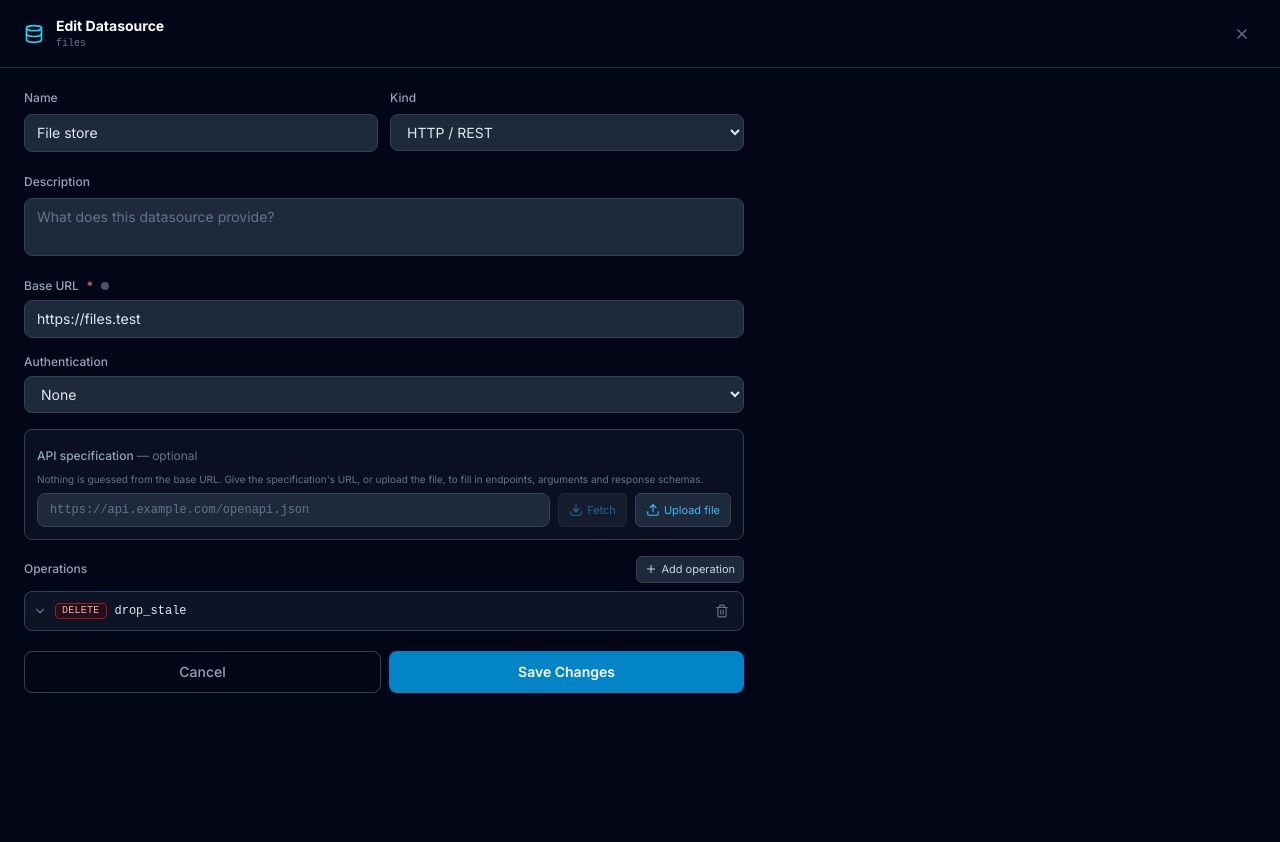
Test case: Try run on a destructive operation › spells the row count into the confirm button
Click the text "drop_stale" at (150,610), box [114, 602, 186, 618]
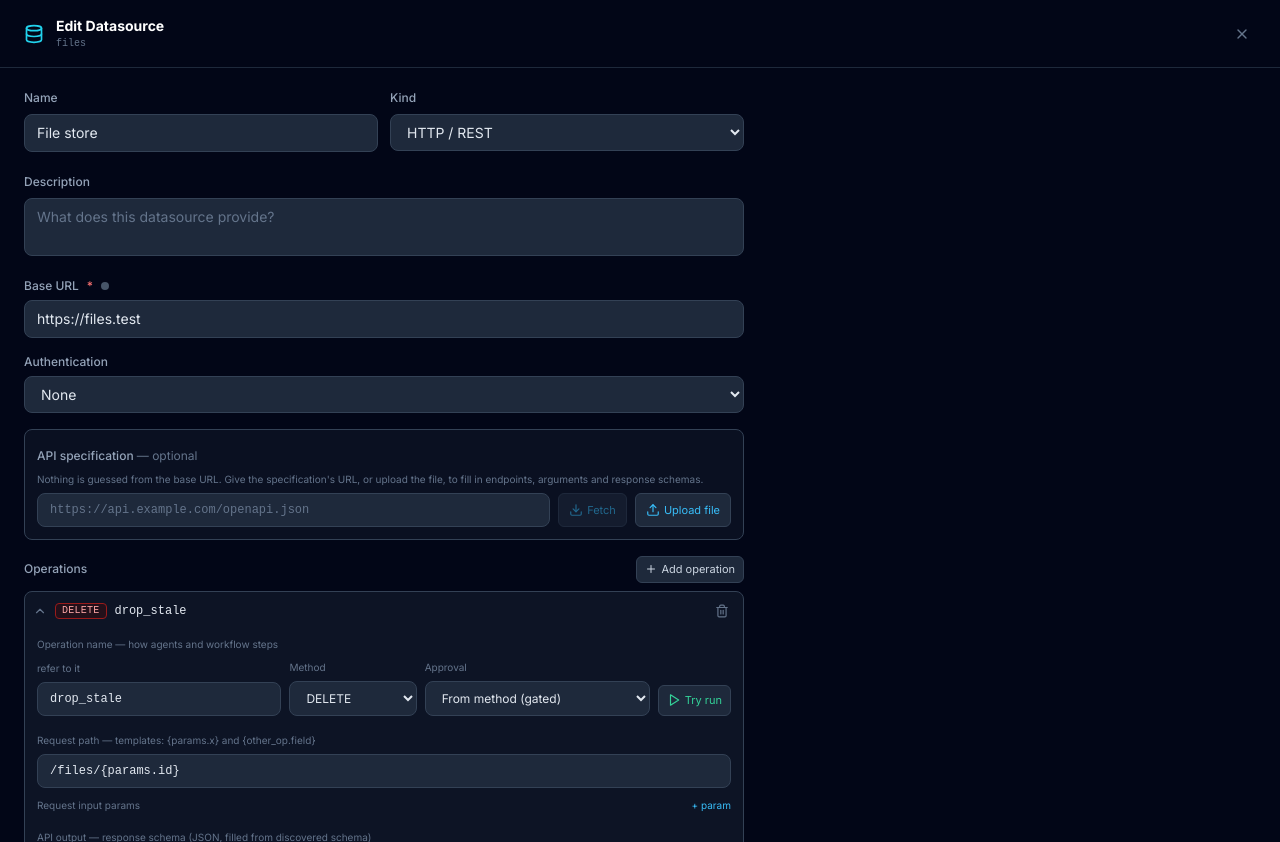
Click the button "Try run" at (694,700), box [658, 685, 731, 716]
(page scrolled)
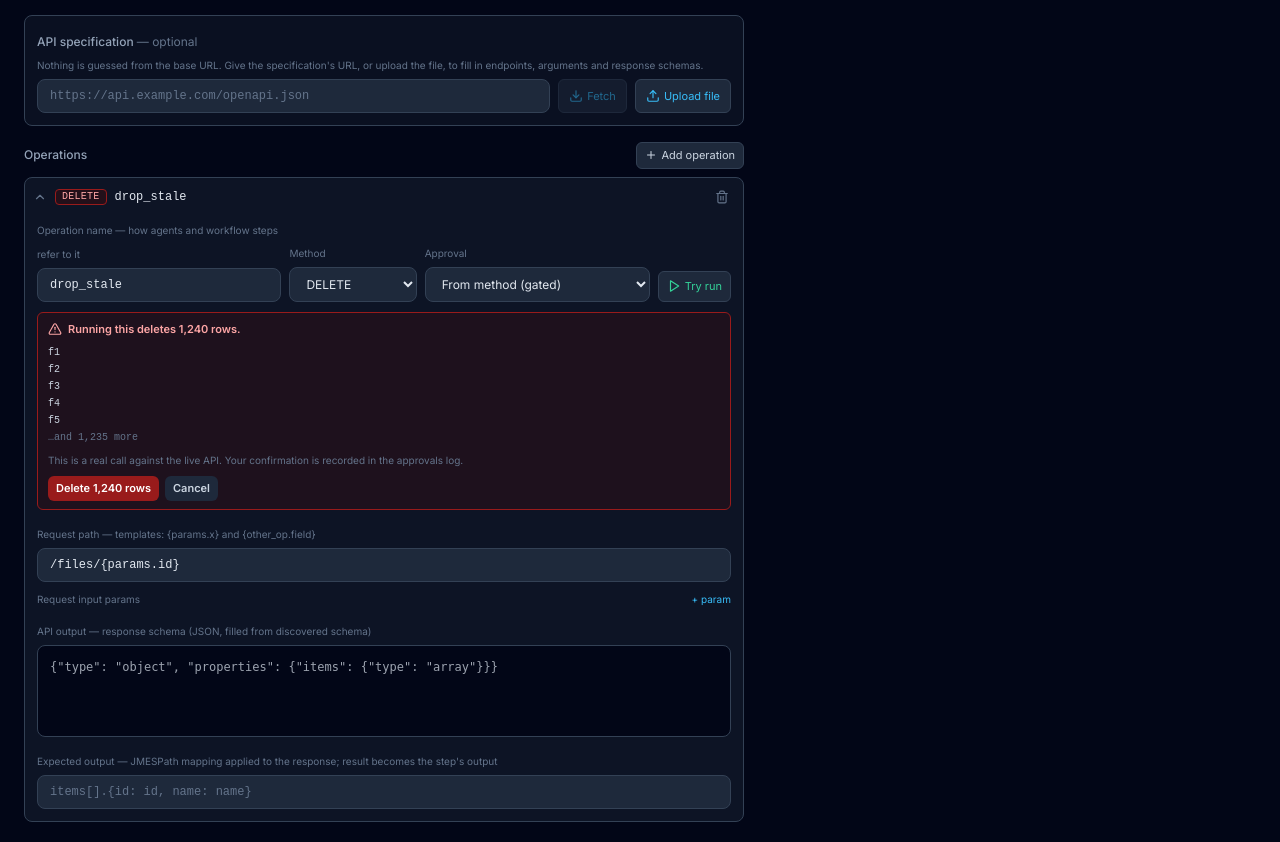
Expected: the button "Delete 1,240 rows" is shown, [48, 476, 159, 500]
